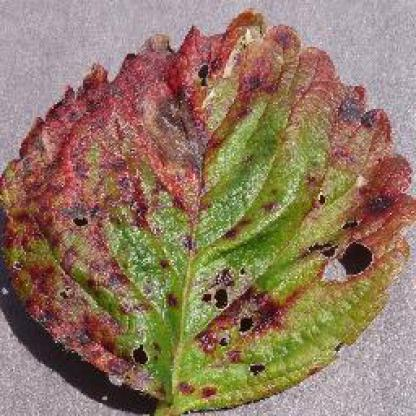leaf scorch: (0, 8, 415, 415)
